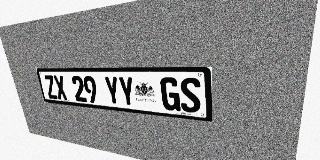2: (71, 76, 87, 102)
9: (82, 76, 99, 103)
G: (160, 77, 181, 111)
S: (179, 77, 201, 113)
X: (53, 75, 68, 100)
Y: (118, 76, 136, 107), (103, 76, 121, 105)
Z: (43, 75, 58, 99)
